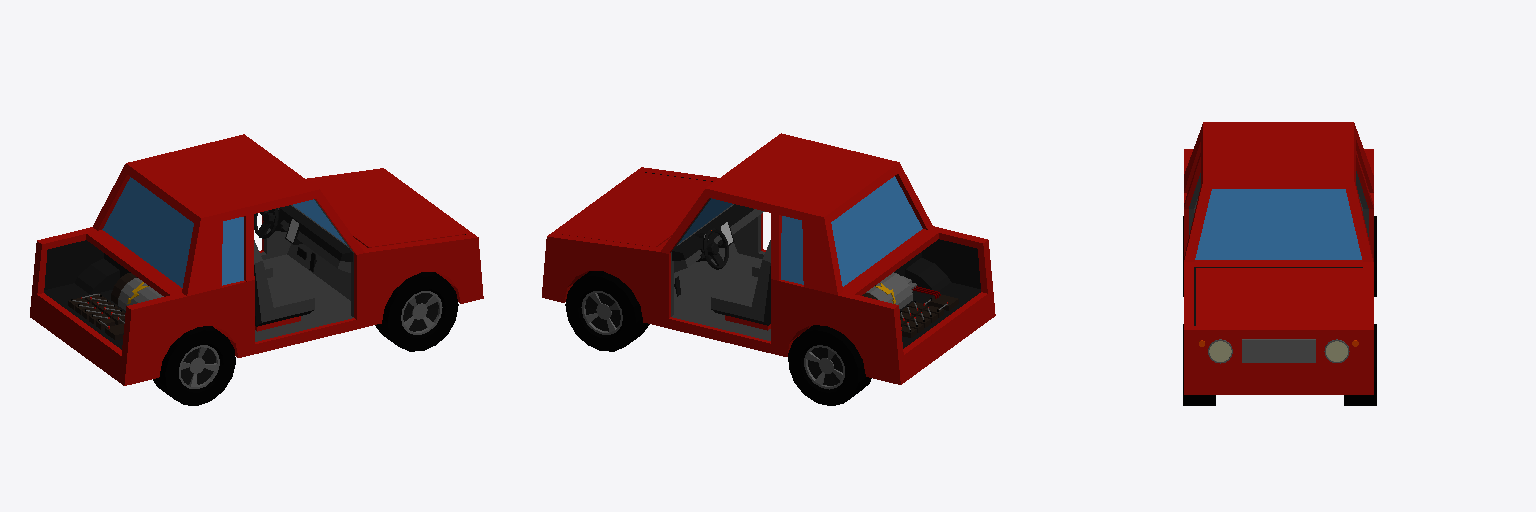
Rendered from car.obj.
3 views of the same model, side by side, from view 1: azimuth 30°, elevation 25°; view 2: azimuth 150°, elevation 25°; view 3: azimuth 270°, elevation 25° (orthographic).
Visible parts, largest first — view 1: car-normal-red_Cube.623; view 2: car-normal-red_Cube.623; view 3: car-normal-red_Cube.623.
Boxes of the visible parts, x1,y1,x2,y2 form: car-normal-red_Cube.623: [30, 134, 483, 405]; car-normal-red_Cube.623: [542, 133, 995, 405]; car-normal-red_Cube.623: [1183, 122, 1376, 405].
Size of the model in its own units: 1.82 by 0.8549 by 0.8525.